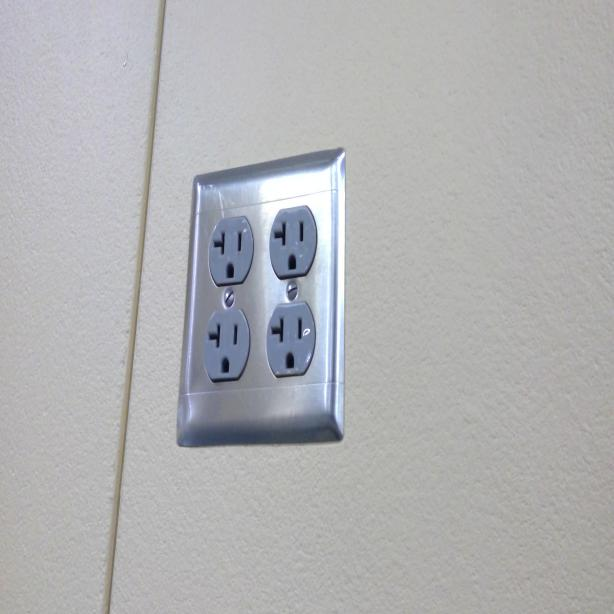typeb: (269, 302, 311, 371), (202, 311, 245, 376), (273, 215, 311, 272), (209, 228, 247, 282)
